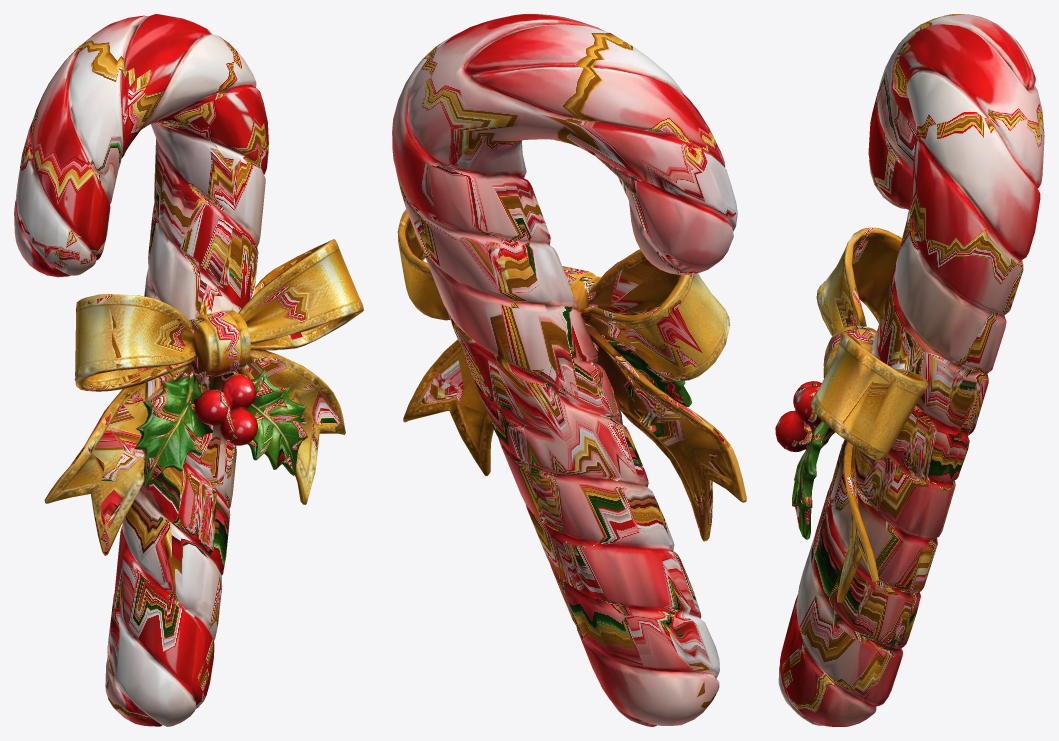
File: candy.glb
3 views of the same model, side by side, from view 1: azimuth 30°, elevation 25°; view 2: azimuth 150°, elevation 25°; view 3: azimuth 270°, elevation 25° (orthographic). The views are drawn at different scales.
Visible parts, largest first — view 1: tripo_node_e0972f9c-eeb3-49c9-8477-892749193a38; view 2: tripo_node_e0972f9c-eeb3-49c9-8477-892749193a38; view 3: tripo_node_e0972f9c-eeb3-49c9-8477-892749193a38.
Boxes of the visible parts, x1,y1,x2,y2 form: tripo_node_e0972f9c-eeb3-49c9-8477-892749193a38: (14, 14, 363, 726); tripo_node_e0972f9c-eeb3-49c9-8477-892749193a38: (392, 14, 746, 726); tripo_node_e0972f9c-eeb3-49c9-8477-892749193a38: (775, 14, 1044, 726).
Size of the model in its own units: 0.4891 by 0.9791 by 0.3331.
1 material, 1 textured.
